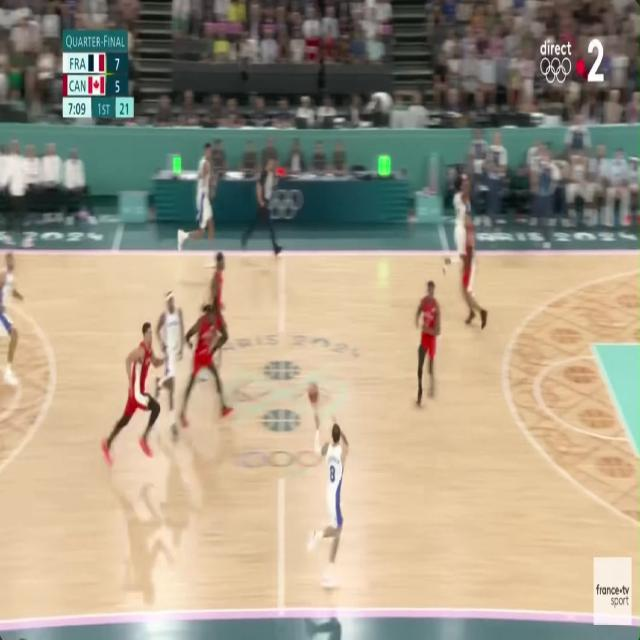ball_handler: (303, 373, 354, 600)
